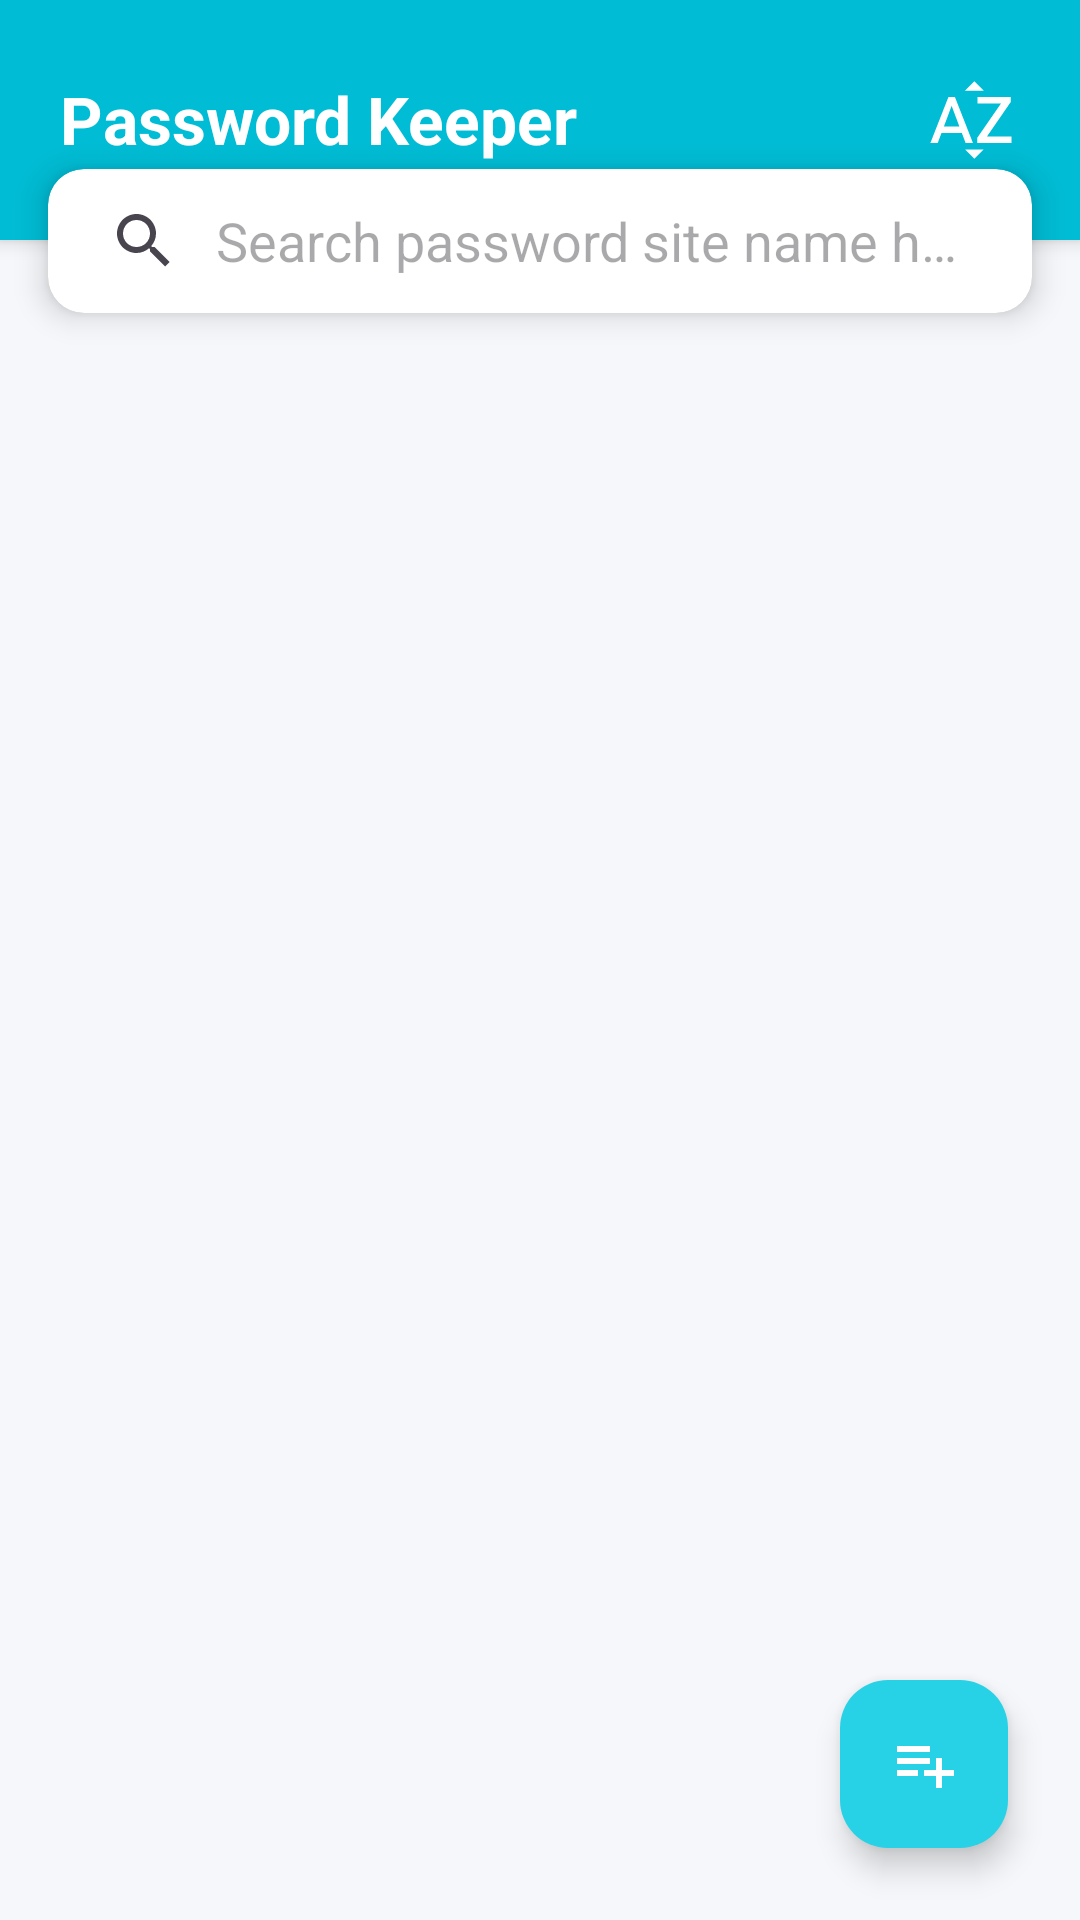

Locate icon controls on the screen. Image size 1080*1920, boxes as {"x1": x1, "y1": y1, "x2": x2, "y2": y2}.
Add new entry: {"x1": 840, "y1": 1680, "x2": 1008, "y2": 1848}
sort by: {"x1": 930, "y1": 81, "x2": 1012, "y2": 159}
